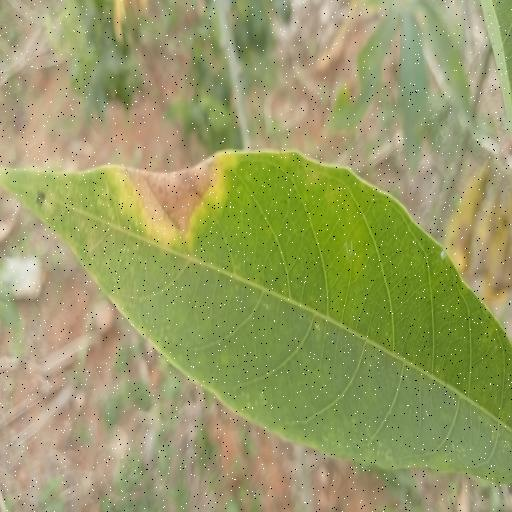Cassava_Bacterial_Disease: (0, 141, 512, 495)
